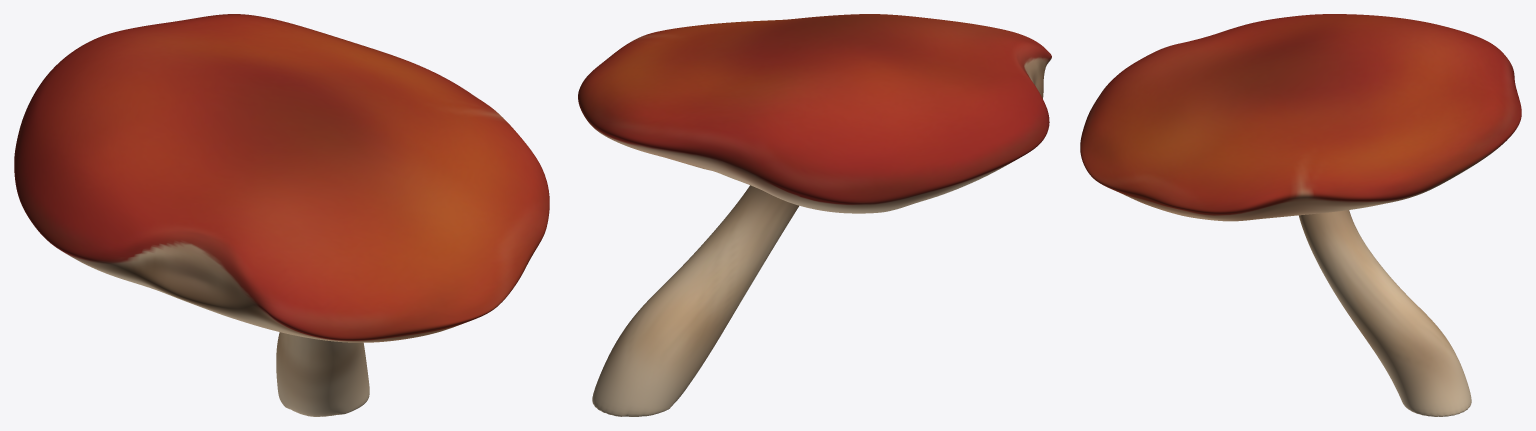
Rendered from shroom1.fbx.
3 renders of one model, left to right at view 1: azimuth 30°, elevation 25°; view 2: azimuth 150°, elevation 25°; view 3: azimuth 270°, elevation 25°, orthographic. The views are drawn at different scales.
Visible parts, largest first — view 1: Merged_KimDoan_GA309_W15_Base; view 2: Merged_KimDoan_GA309_W15_Base; view 3: Merged_KimDoan_GA309_W15_Base.
Boxes of the visible parts, x1,y1,x2,y2 form: Merged_KimDoan_GA309_W15_Base: (14,14,549,416); Merged_KimDoan_GA309_W15_Base: (578,14,1051,416); Merged_KimDoan_GA309_W15_Base: (1080,14,1521,416).
Size of the model in its own units: 2.83 by 2.35 by 3.14.
